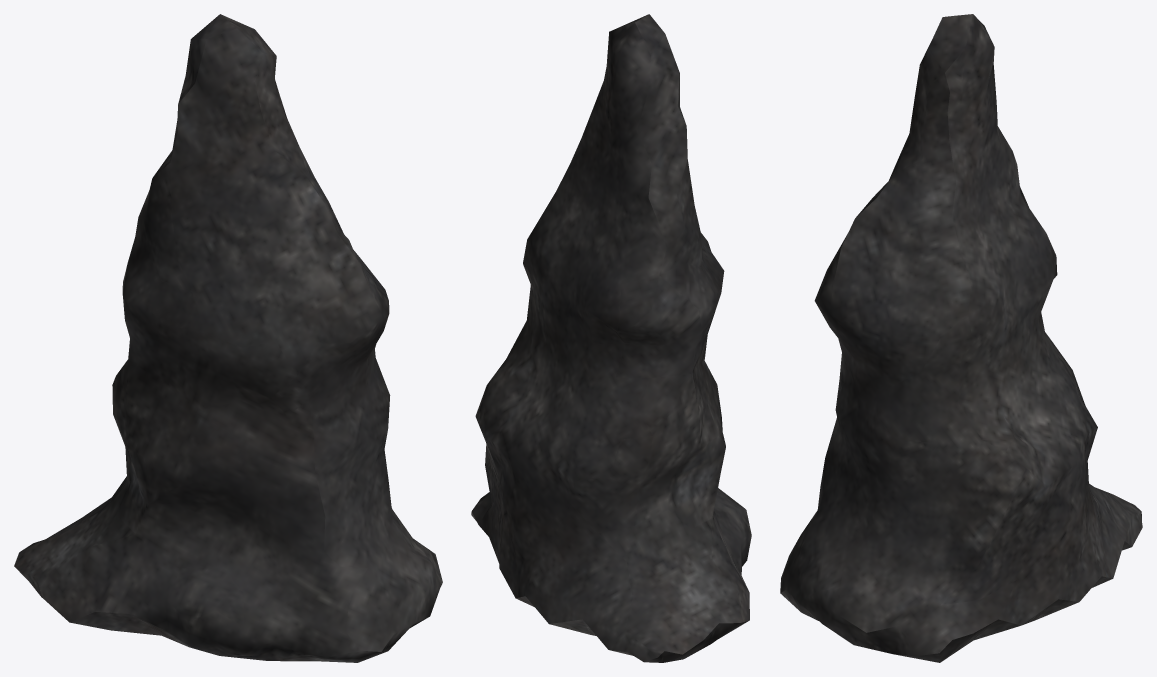
File: MedBottom.fbx
The picture shows the model from 3 angles, left to right: view 1: azimuth 30°, elevation 25°; view 2: azimuth 150°, elevation 25°; view 3: azimuth 270°, elevation 25°; orthographic projection. The views are drawn at different scales.
Parts seen in each view (by area): view 1: MedBottom; view 2: MedBottom; view 3: MedBottom.
Part boxes in pixels (x1=…): MedBottom: x1=14, y1=14, x2=442, y2=662; MedBottom: x1=471, y1=14, x2=751, y2=662; MedBottom: x1=780, y1=14, x2=1142, y2=662.
Bounding box in the file's own units: 74.66 × 129 × 73.76.
Materials: 1 (1 with a texture image).
